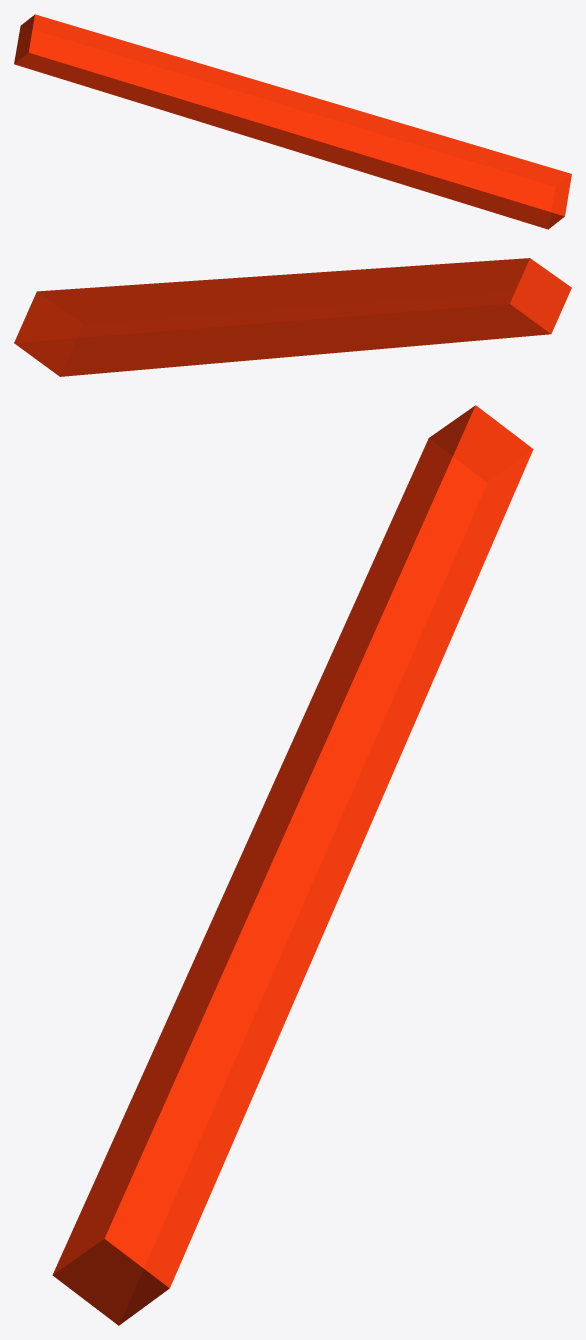
File: Event_421278790_EBrechit_28.fbx
3 renders of one model, top to bottom at view 1: azimuth 30°, elevation 25°; view 2: azimuth 150°, elevation 25°; view 3: azimuth 270°, elevation 25°, orthographic. The views are drawn at different scales.
Visible parts, largest first — view 1: Model; view 2: Model; view 3: Model.
Part boxes in pixels (box(x1,y1,x2,y2)): Model: box(14, 14, 571, 229); Model: box(14, 258, 571, 376); Model: box(52, 405, 533, 1325).
Size of the model in its own units: 0.7815 by 0.4095 by 0.3523.
